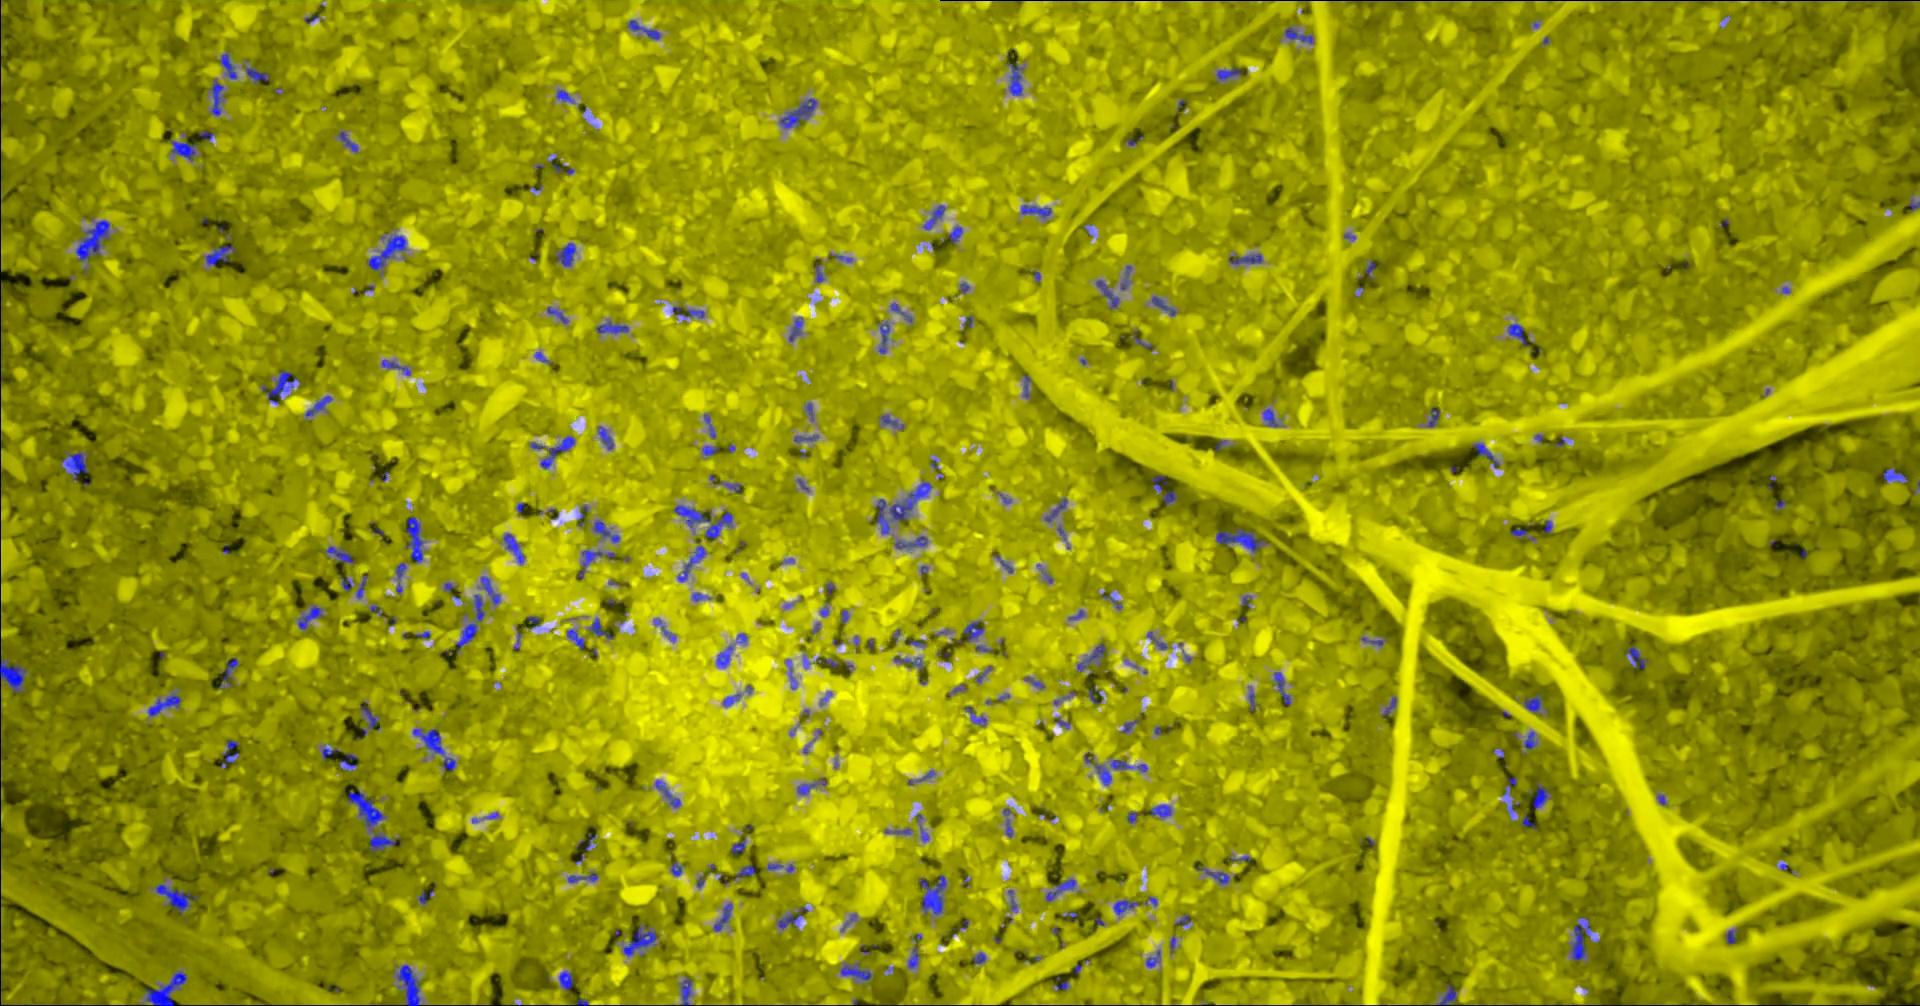ant: (875, 481, 931, 533), (347, 788, 385, 828), (368, 234, 406, 271), (75, 220, 109, 260), (145, 970, 185, 1005), (155, 883, 197, 913), (1217, 527, 1263, 553), (262, 370, 298, 401), (918, 874, 946, 915), (778, 98, 817, 127), (540, 436, 574, 467), (577, 550, 615, 578), (623, 923, 657, 955), (0, 653, 25, 692), (677, 545, 705, 580), (396, 964, 420, 1005), (1570, 916, 1591, 960), (411, 728, 444, 754), (1076, 643, 1105, 671), (703, 511, 731, 539), (674, 506, 710, 527), (405, 516, 422, 561), (62, 451, 88, 480), (147, 694, 180, 715), (204, 243, 235, 265), (1045, 878, 1076, 901), (777, 906, 808, 929), (1472, 442, 1498, 467), (655, 780, 681, 807), (627, 19, 660, 39), (1096, 279, 1119, 309), (217, 657, 237, 688), (503, 533, 524, 563), (297, 605, 323, 629), (1272, 671, 1290, 705), (455, 622, 476, 650), (1507, 323, 1533, 345), (305, 395, 331, 417), (1194, 866, 1228, 883), (480, 575, 499, 605), (922, 205, 945, 229), (1528, 782, 1549, 808), (841, 963, 871, 981), (712, 903, 731, 931), (220, 739, 237, 768), (170, 140, 196, 160), (593, 521, 618, 541), (1007, 62, 1022, 95), (1284, 25, 1312, 43), (210, 80, 223, 116), (370, 833, 397, 851), (1044, 498, 1065, 521), (1625, 647, 1647, 669), (1150, 295, 1175, 315), (361, 701, 378, 728), (218, 53, 236, 79), (381, 359, 410, 375), (963, 620, 983, 641), (556, 243, 575, 265), (589, 619, 612, 638), (325, 546, 353, 561), (797, 779, 825, 794), (1110, 760, 1147, 771), (596, 320, 629, 333), (894, 535, 927, 547), (964, 706, 985, 725), (894, 655, 923, 669), (338, 131, 357, 151), (1021, 205, 1051, 217), (890, 304, 910, 323), (1112, 899, 1138, 915), (1437, 984, 1457, 1005), (597, 426, 613, 448), (672, 306, 703, 318), (566, 629, 584, 649), (546, 306, 568, 323), (245, 67, 268, 83), (550, 158, 573, 173), (877, 323, 889, 353), (1524, 694, 1542, 713), (577, 833, 596, 851), (1882, 467, 1906, 481), (1228, 253, 1261, 263), (1095, 763, 1111, 784), (395, 561, 405, 593), (789, 318, 803, 340), (880, 415, 903, 429), (1364, 260, 1382, 278), (716, 645, 731, 666), (681, 976, 691, 1005), (339, 753, 357, 770), (356, 573, 367, 598), (321, 744, 340, 760), (557, 970, 573, 989), (1217, 69, 1244, 79), (474, 594, 484, 622), (1149, 804, 1171, 817), (1382, 697, 1396, 716), (568, 873, 597, 882), (947, 226, 963, 243), (1150, 475, 1167, 490), (1263, 408, 1277, 426), (1145, 949, 1159, 967), (907, 945, 918, 967), (735, 864, 754, 876), (1088, 686, 1102, 702), (555, 89, 573, 102), (767, 862, 792, 871), (1523, 730, 1534, 749), (1521, 815, 1537, 829), (730, 838, 744, 854), (1427, 408, 1439, 426), (1510, 528, 1528, 540), (1162, 490, 1176, 504), (418, 890, 432, 903), (971, 951, 985, 964), (702, 445, 719, 455), (792, 434, 818, 441), (442, 757, 455, 770), (1724, 929, 1736, 942), (670, 862, 681, 875)
